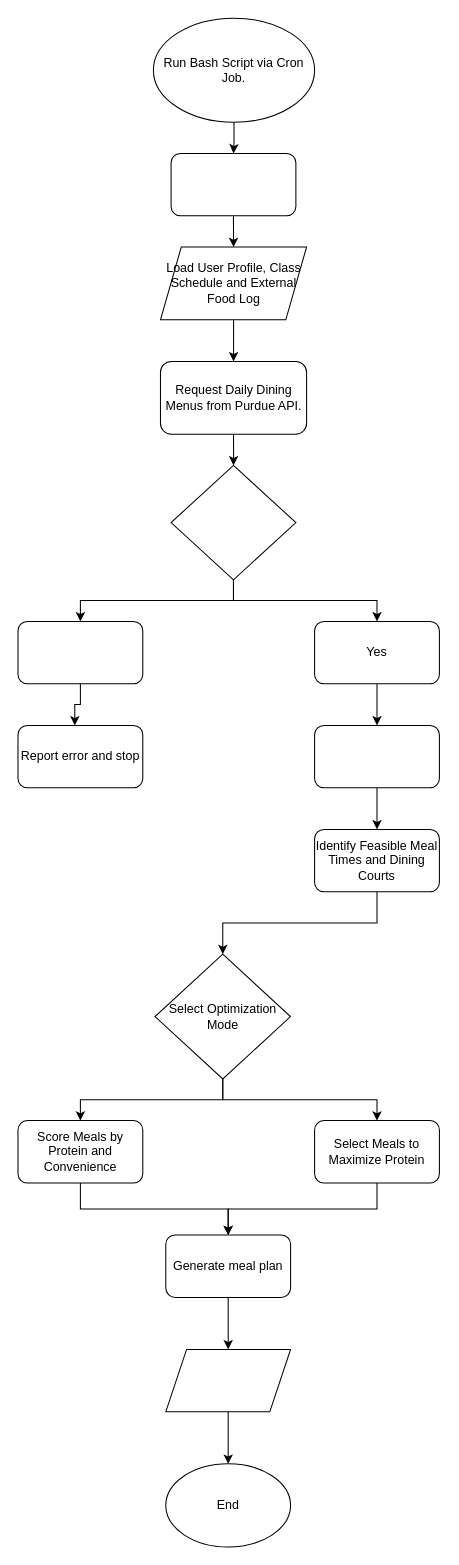
Some shapes in this 459 by 1565 pixel diagram are drawn without their labels. The centre of each missing label's shape, as x and y in pixels:
API Request Successful?: point (233, 522)
Launch C++ Meal Planner: point (233, 184)
No: point (80, 652)
Parse Menu JSON and extract Nutrition Info.: point (376, 756)
Store plan in a TXT file.: point (228, 1380)
